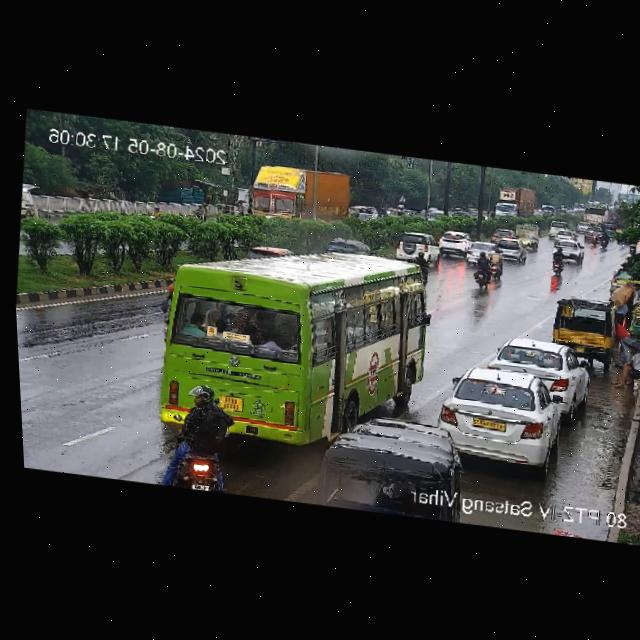bus: (134, 231, 443, 467)
car: (432, 362, 566, 475), (483, 336, 595, 417), (545, 293, 615, 357), (389, 226, 435, 266), (432, 222, 471, 262), (245, 237, 292, 266), (459, 234, 500, 267), (550, 229, 587, 264), (327, 234, 373, 262), (495, 234, 527, 264), (18, 176, 38, 219), (486, 223, 515, 243), (545, 217, 568, 241), (382, 203, 403, 222), (572, 216, 591, 234), (353, 201, 371, 218), (602, 223, 615, 238)
motorcycle: (142, 381, 238, 493), (464, 244, 495, 295), (486, 241, 512, 287), (141, 192, 173, 218), (186, 196, 212, 221), (544, 247, 567, 275), (229, 197, 245, 222), (621, 240, 638, 263), (595, 232, 612, 254), (587, 227, 601, 249)
person: (605, 334, 640, 392), (609, 315, 635, 364), (611, 283, 630, 321), (626, 279, 640, 313)
truck: (243, 158, 357, 229), (481, 173, 537, 225), (578, 202, 610, 234), (512, 222, 539, 251)
